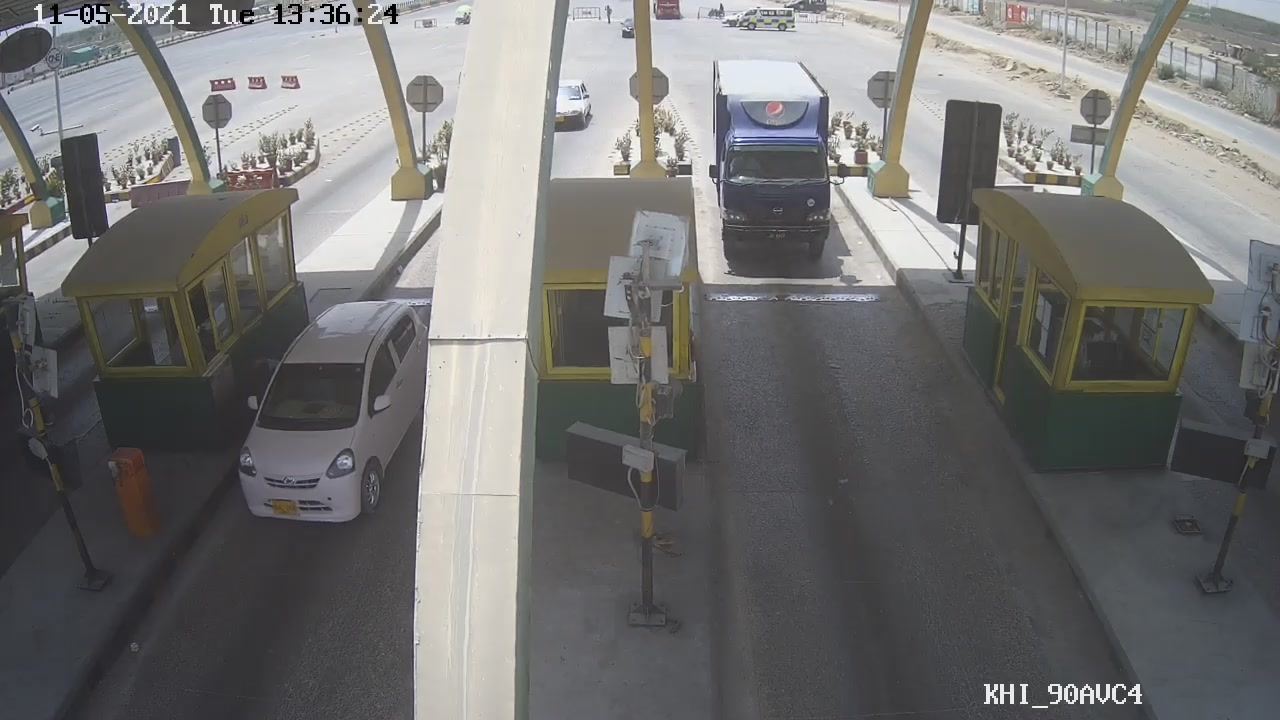F5: (693, 39, 854, 282)
